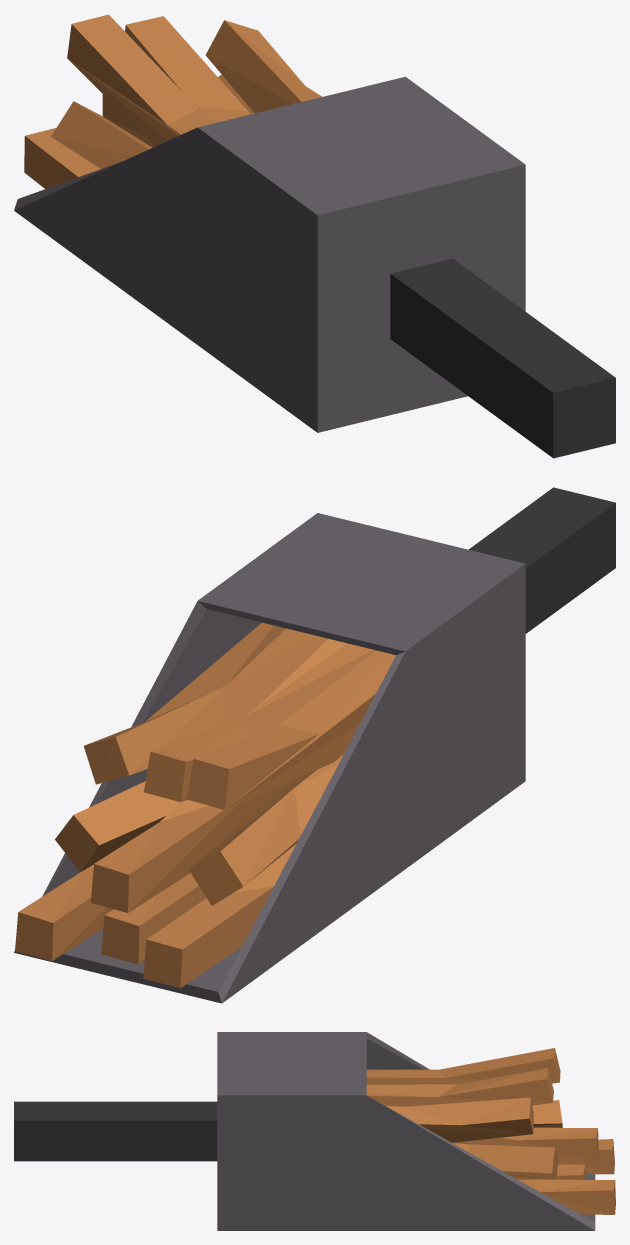
File: ScooperFries.fbx
3 views of the same model, one above another, from view 1: azimuth 30°, elevation 25°; view 2: azimuth 150°, elevation 25°; view 3: azimuth 270°, elevation 25° (orthographic). The views are drawn at different scales.
Visible parts, largest first — view 1: Cube.017, Cube.025, Cube.024, Cube.026, Cube.022, Cube.019, Cube.023; view 2: Cube.017, Cube.024, Cube.025, Cube.023, Cube.019, Cube.022, Cube.026, Cube.021, Cube.020, Cube.018; view 3: Cube.017, Cube.024, Cube.026, Cube.025, Cube.023, Cube.021, Cube.020, Cube.019, Cube.022, Cube.018.
Part boxes in pixels (x1,y1,x2,y2): Cube.017: [14, 76, 615, 458]; Cube.025: [67, 14, 217, 146]; Cube.024: [205, 20, 322, 113]; Cube.026: [125, 16, 251, 122]; Cube.022: [51, 101, 152, 168]; Cube.019: [24, 128, 100, 188]; Cube.023: [102, 94, 154, 147]; Cube.017: [14, 487, 615, 1003]; Cube.024: [83, 622, 328, 784]; Cube.025: [186, 650, 395, 809]; Cube.023: [90, 782, 287, 912]; Cube.019: [143, 844, 296, 988]; Cube.022: [188, 754, 343, 905]; Cube.026: [144, 643, 376, 802]; Cube.021: [55, 639, 346, 872]; Cube.020: [15, 865, 113, 961]; Cube.018: [101, 873, 206, 964]; Cube.017: [14, 1032, 595, 1230]; Cube.024: [386, 1097, 533, 1142]; Cube.026: [366, 1068, 553, 1106]; Cube.025: [366, 1048, 560, 1084]; Cube.023: [452, 1127, 598, 1162]; Cube.021: [452, 1143, 559, 1178]; Cube.020: [518, 1179, 615, 1214]; Cube.019: [558, 1139, 614, 1174]; Cube.022: [532, 1100, 562, 1127]; Cube.018: [514, 1164, 585, 1179].
Bounding box in the file's own units: 304 × 304 × 1225.
